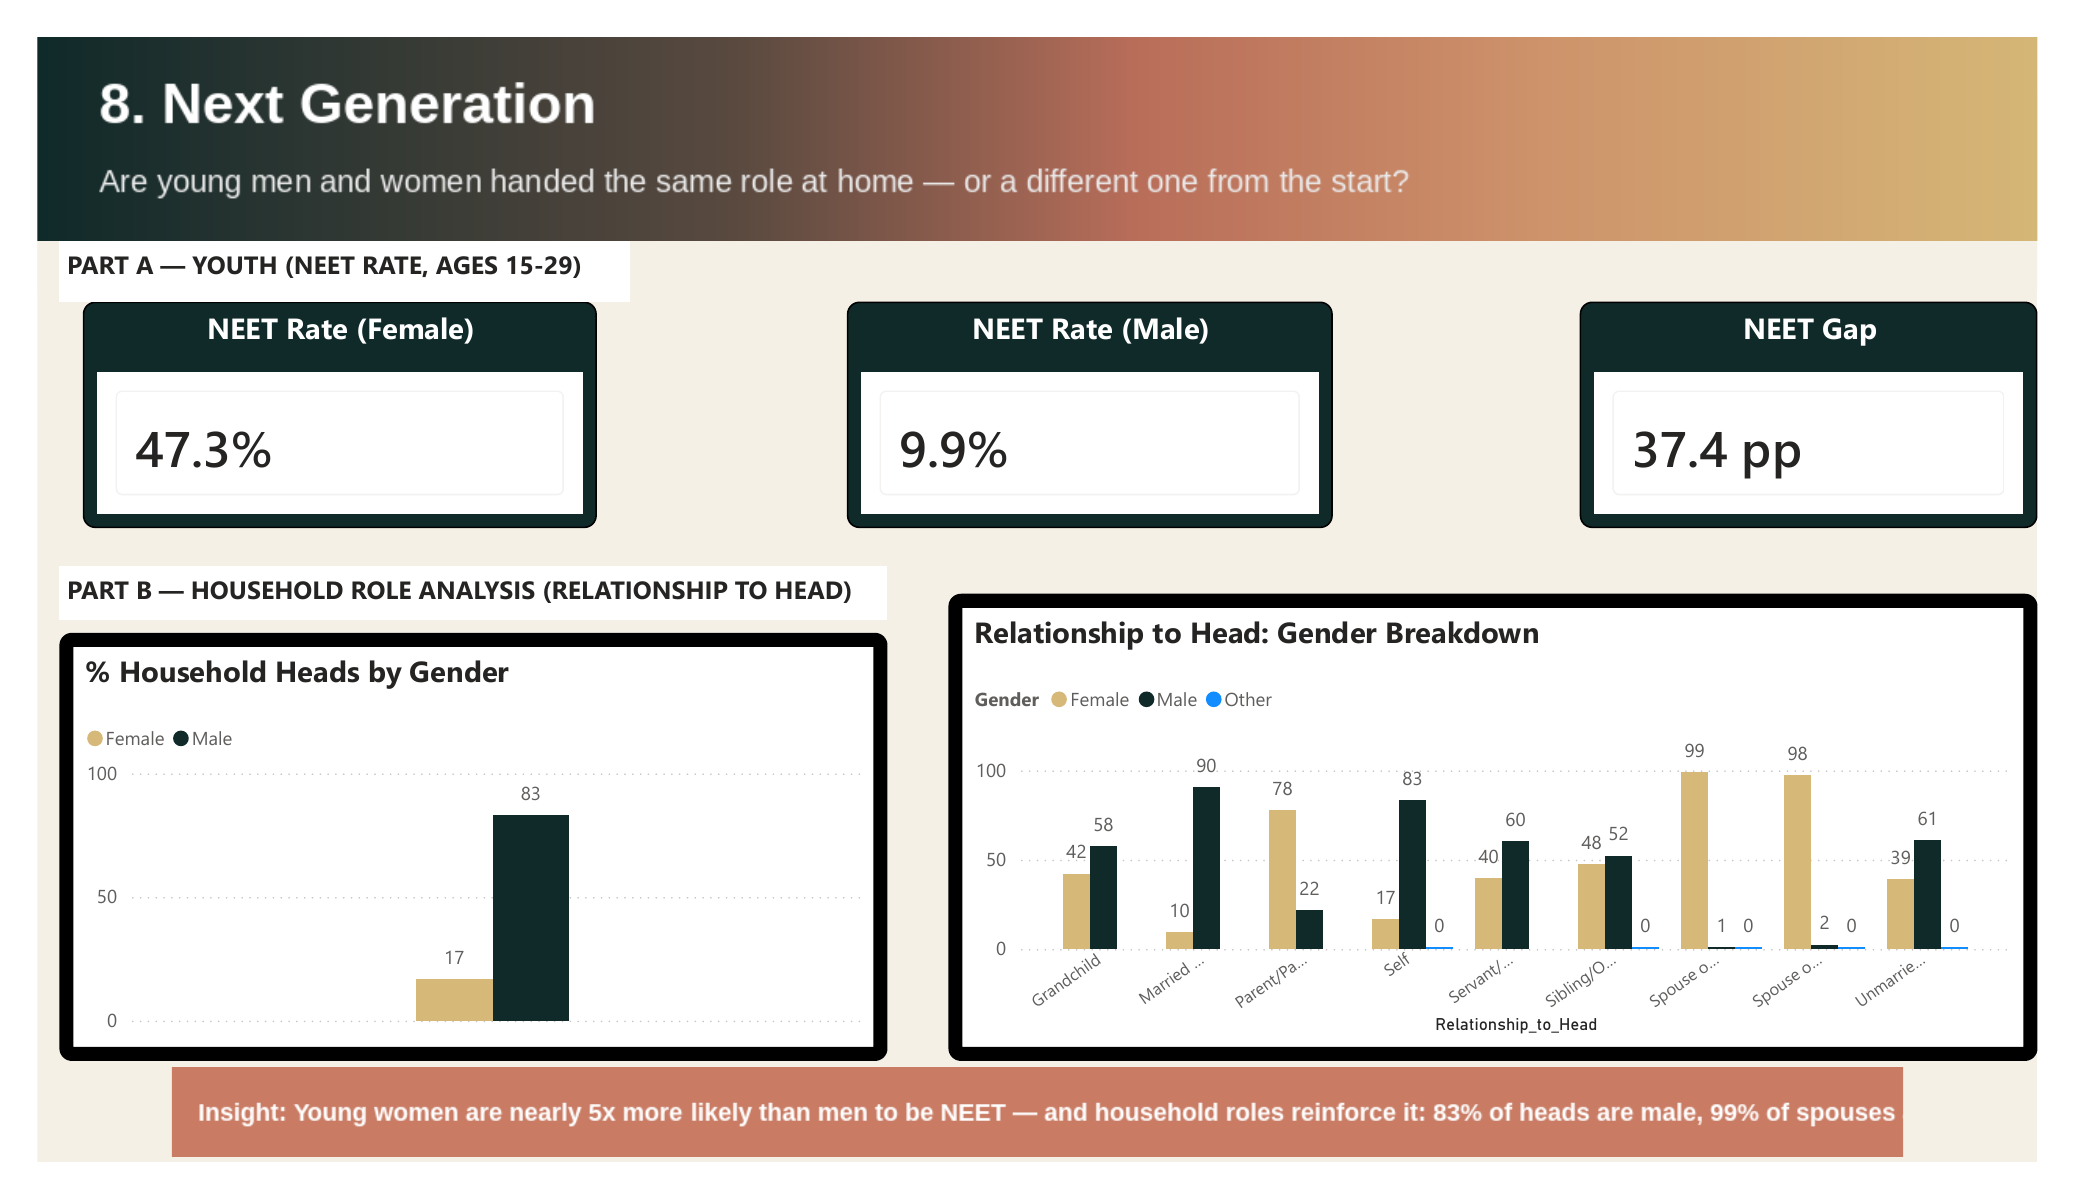

Layout of this report page (visuals, bound fields, positions):
{"tool":"powerbi","page":{"name":"8. Next Generation","canvas":[1280,720],"ordinal":8},"visuals":[{"type":"image","box":[0,0,1280,130.3],"z":0},{"type":"cardVisual","title":"NEET Rate (Female)","fields":{"Data":["_Measures.Female_NEET_Rate_Display"]},"box":[29,168.9,329.4,144.8],"z":1000},{"type":"cardVisual","title":"NEET Rate (Male)","fields":{"Data":["_Measures.Male_NEET_Rate_Display"]},"box":[517.6,168.9,311.3,144.8],"z":2000},{"type":"cardVisual","title":"NEET Gap","fields":{"Data":["_Measures.NEET_Gap_Display"]},"box":[986.9,168.9,293.2,144.8],"z":3000},{"type":"textbox","box":[14.5,130.3,364.3,38.6],"z":4000},{"type":"textbox","box":[14.5,337.8,529.6,35],"z":5000},{"type":"clusteredColumnChart","title":"% Household Heads by Gender","fields":{"Y":["_Measures.Female_Head_Percent","_Measures.Male_Head_Percent"]},"box":[14.5,381.2,529.6,273.9],"z":6000},{"type":"clusteredColumnChart","title":"Relationship to Head: Gender Breakdown","fields":{"Category":["PLFS_Main.Relationship_to_Head"],"Series":["PLFS_Main.Gender"],"Y":["_Measures.Relationship_Gender_Percent"]},"box":[582.7,355.9,697.3,299.2],"z":7000},{"type":"image","box":[85.7,655.1,1108.7,65.1],"z":8000}]}

Visuals, with their boxes on the page's 1280x720 design canvas (x1, y1, x2, y2). These are canvas units, not pixel positions in the 2075x1200 screenshot, which may show the page scaled, cropped or inside an application window:
image: crop(0, 0, 1280, 130)
"NEET Rate (Female)" cardVisual: crop(29, 169, 358, 314)
"NEET Rate (Male)" cardVisual: crop(518, 169, 829, 314)
"NEET Gap" cardVisual: crop(987, 169, 1280, 314)
textbox: crop(14, 130, 379, 169)
textbox: crop(14, 338, 544, 373)
"% Household Heads by Gender" clusteredColumnChart: crop(14, 381, 544, 655)
"Relationship to Head: Gender Breakdown" clusteredColumnChart: crop(583, 356, 1280, 655)
image: crop(86, 655, 1194, 720)
